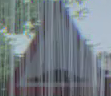Speed Breaker ahead: (5, 10, 91, 90)
